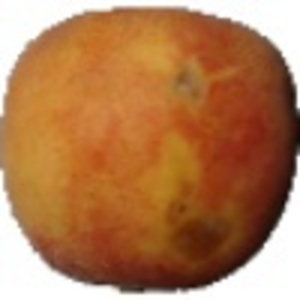pêssego: (1, 3, 300, 296)
